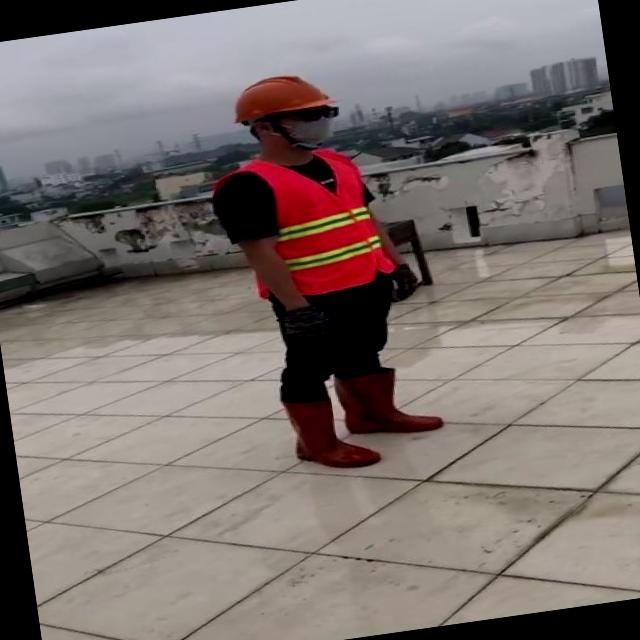boots: (334, 359, 469, 441), (267, 387, 382, 480)
helmet: (220, 67, 342, 126)
vest: (210, 140, 392, 306)
